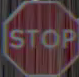Stop: (2, 3, 72, 64)
